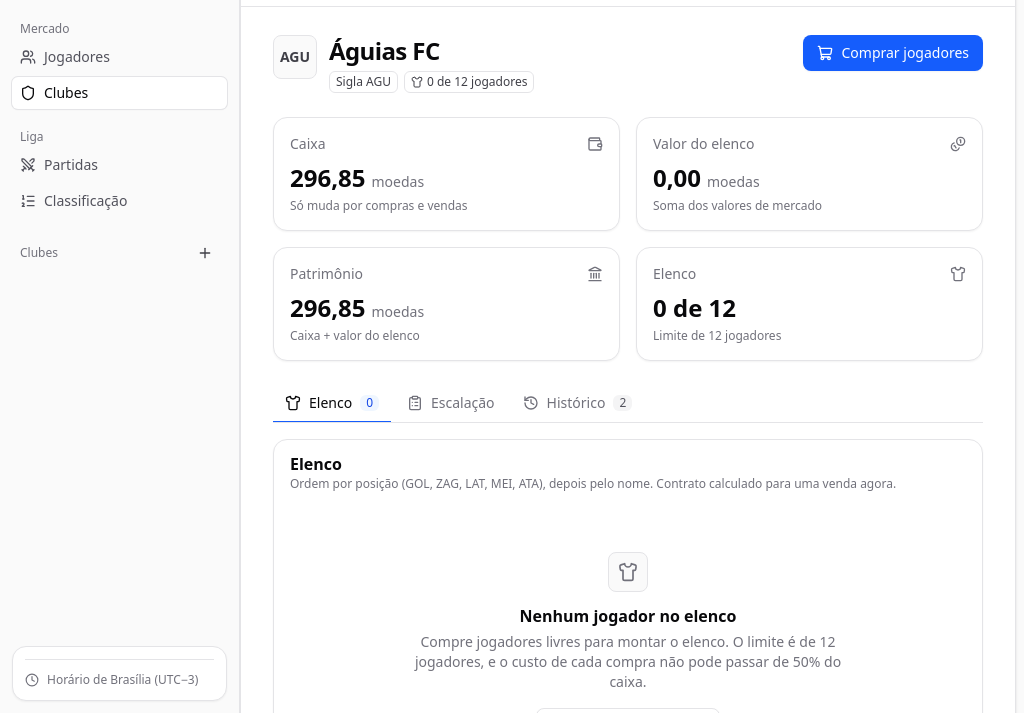
Test: Histórico de transações › abre pela aba e mostra as transações e os totais da API
Click the tab "Histórico 2" at (577, 404), box [511,385,644,423]
(page scrolled)
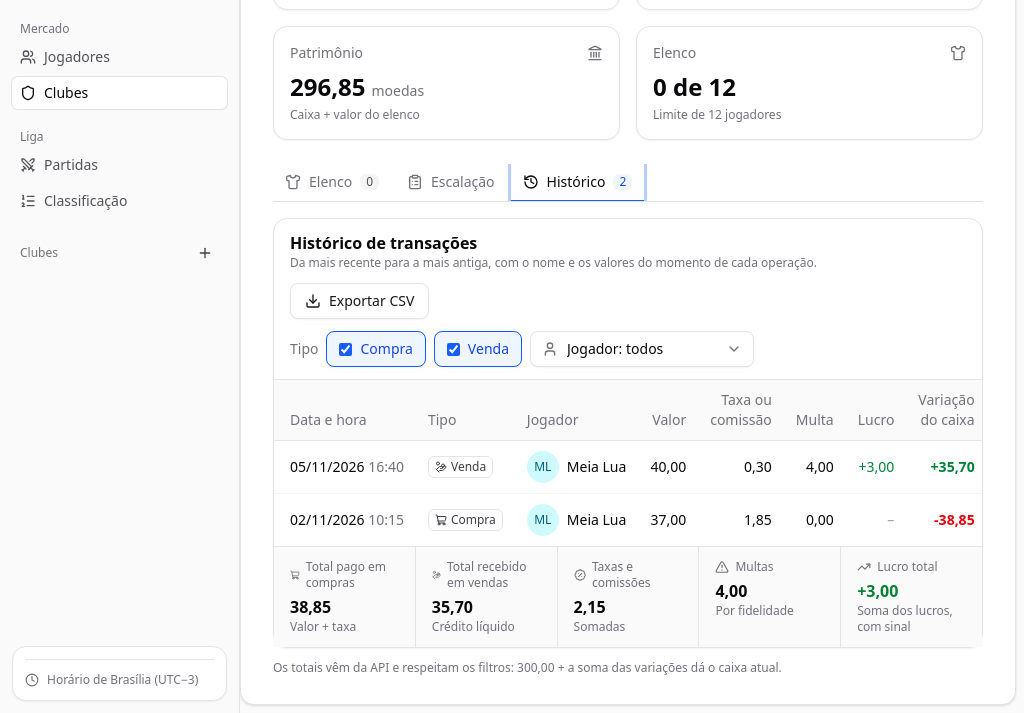
Now the text "05/11/2026" is shown, box [290,457,364,476]
Now the text "16:40" is shown, box [368,457,404,476]
Now the text "+3,00" in the row of "05/11/2026" is shown, box [859,457,894,476]
